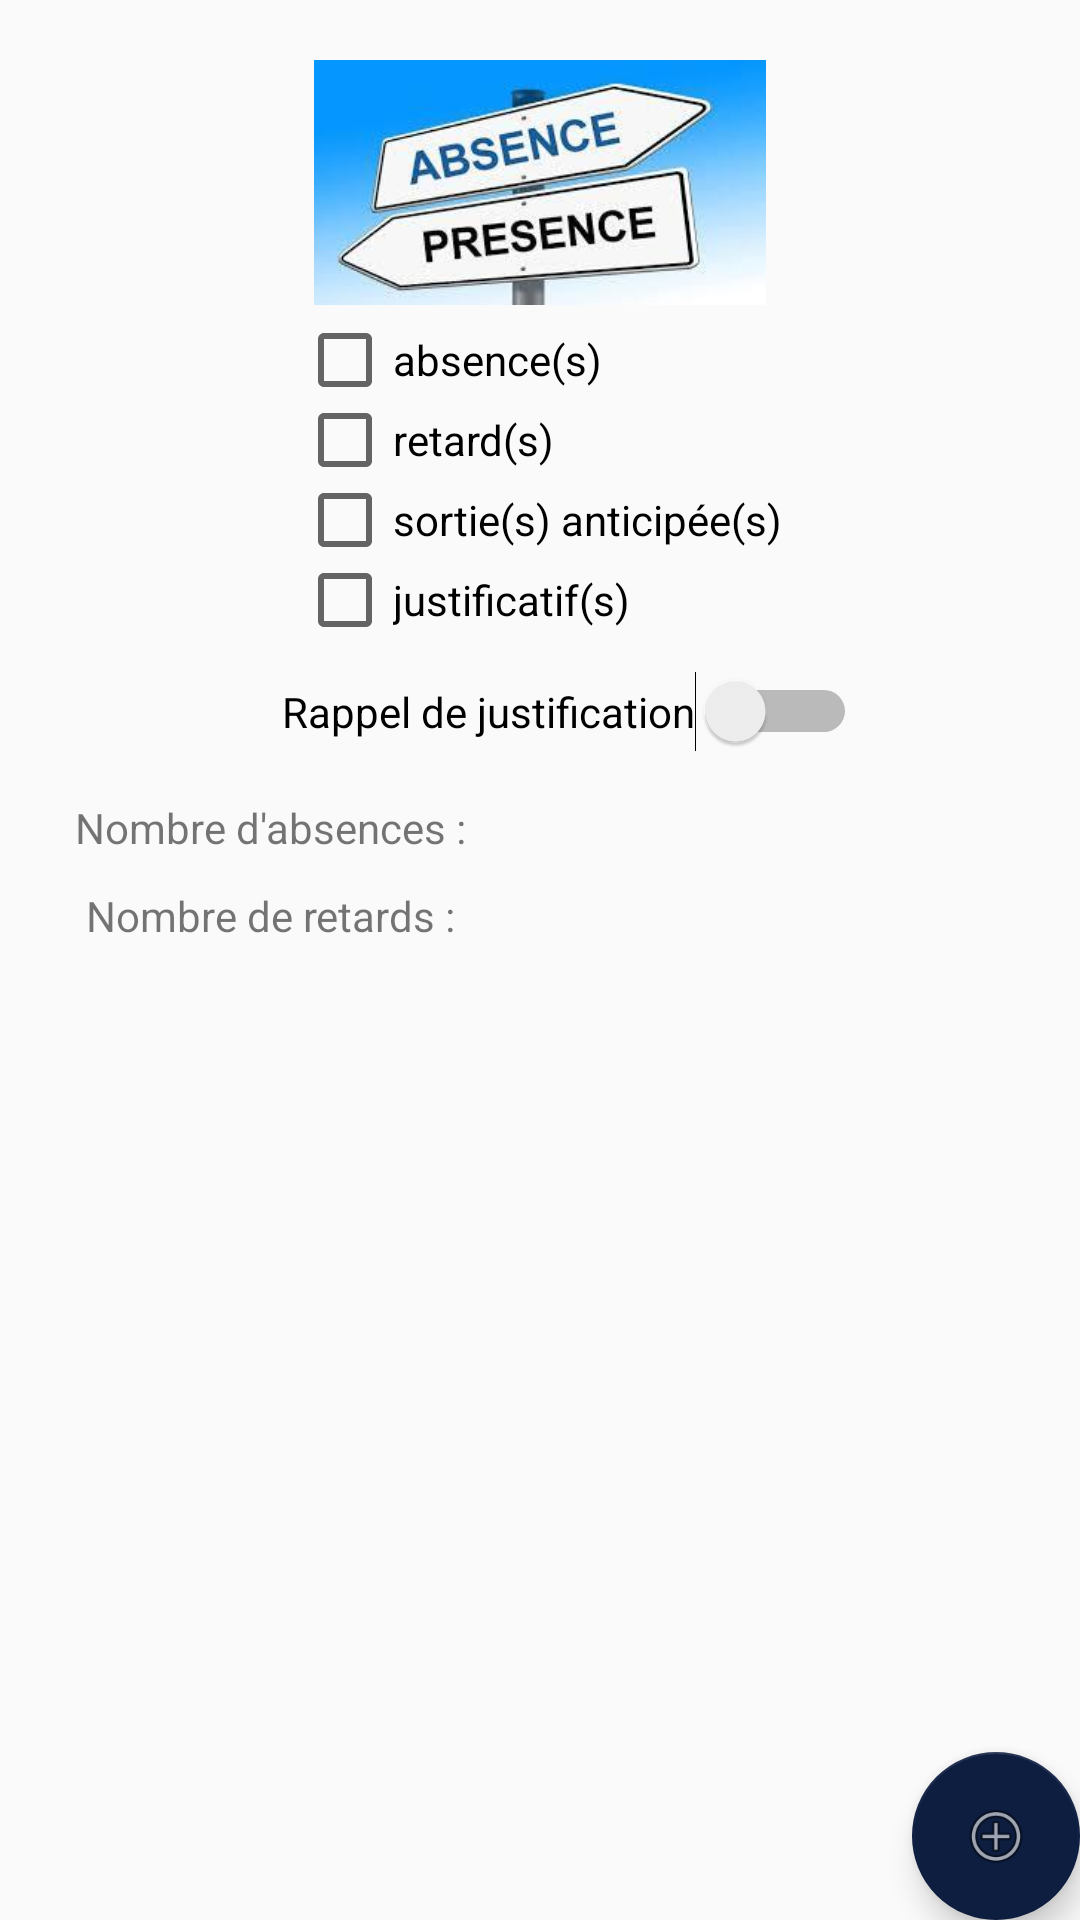

Icons on this 1080w x 1920h Android screen, each with its box as bbox(x1, y1, x2, y2):
add: bbox(912, 1752, 1080, 1920)
